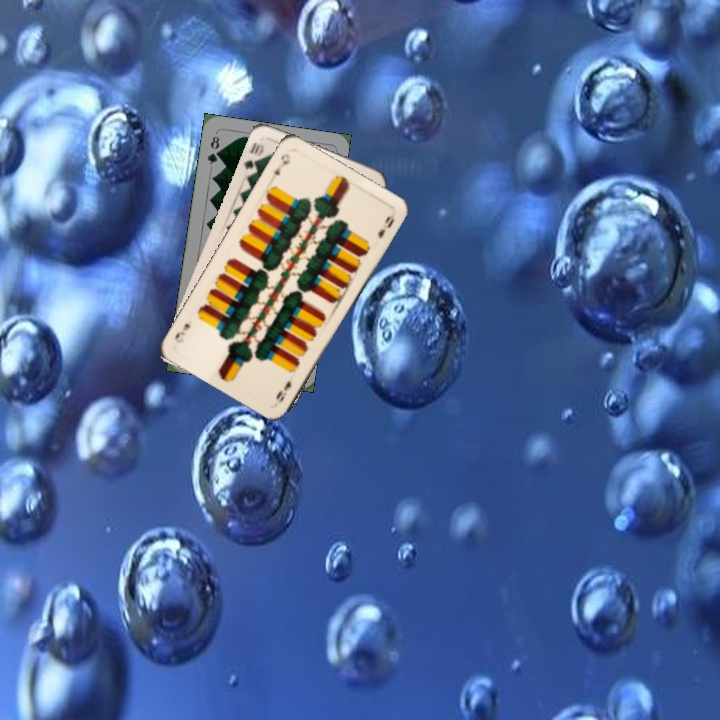E9: (270, 149, 293, 178), (272, 376, 294, 406)
G10: (240, 137, 267, 172)
G8: (203, 132, 222, 167)
